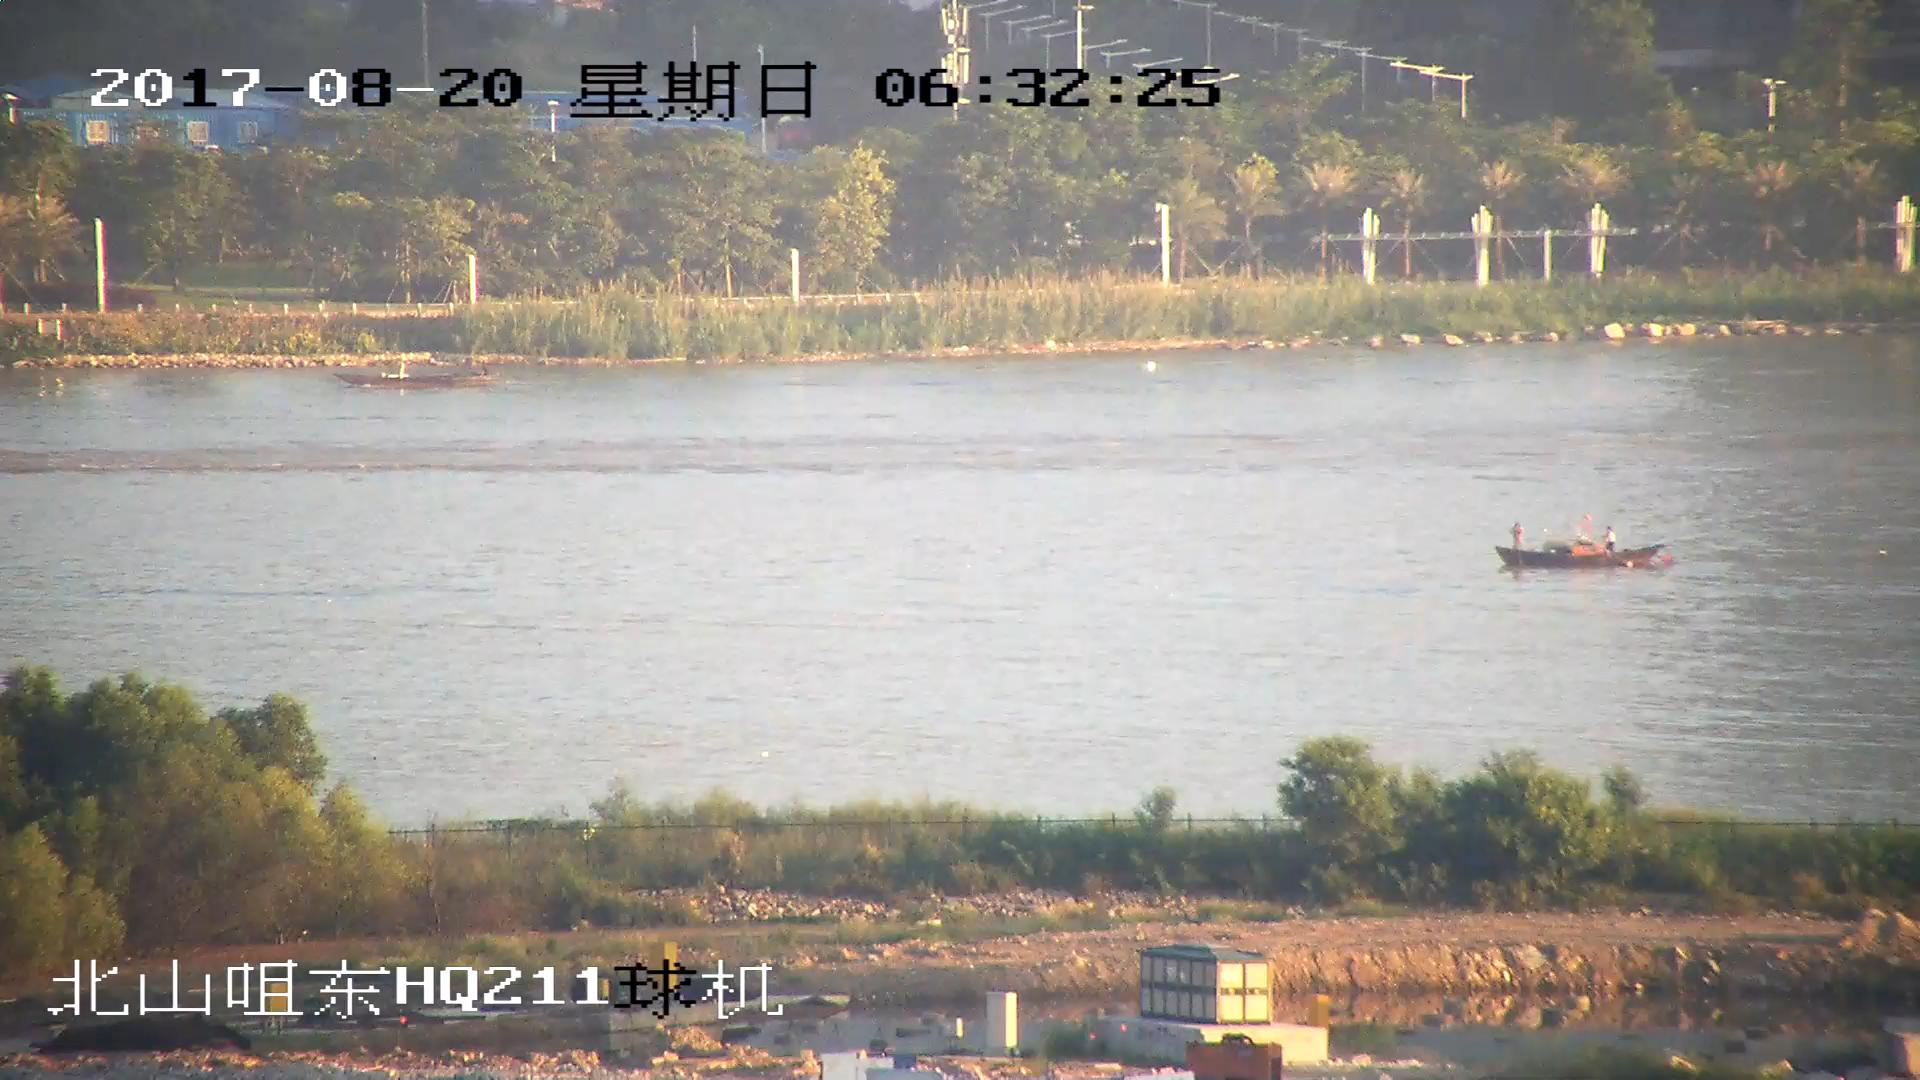fishing boat: (1498, 523, 1670, 571), (338, 365, 496, 391)
